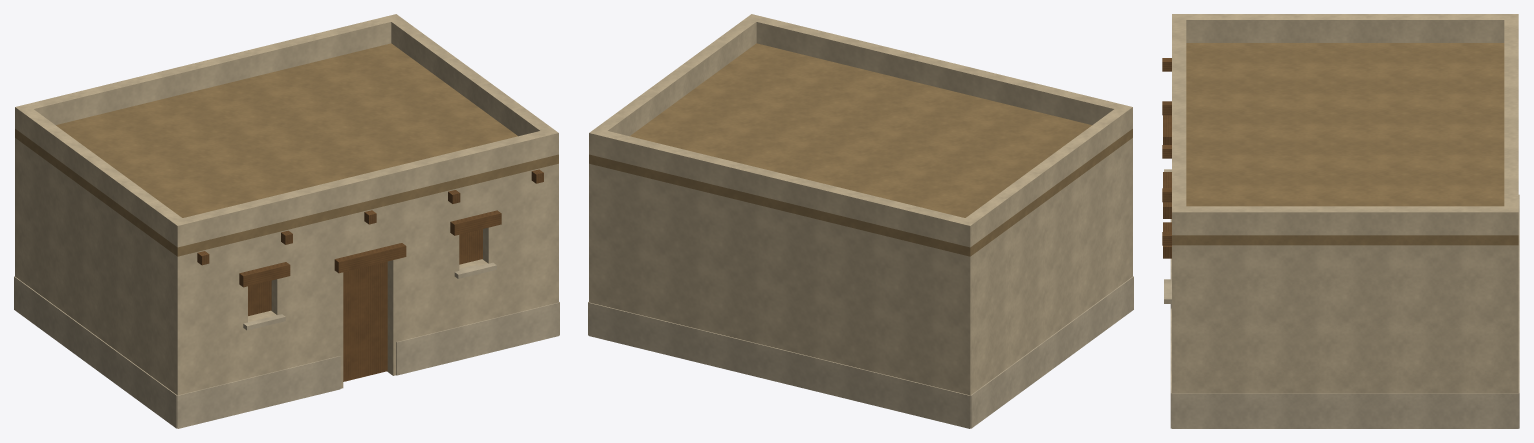
The picture shows the model from 3 angles, left to right: view 1: azimuth 30°, elevation 25°; view 2: azimuth 150°, elevation 25°; view 3: azimuth 270°, elevation 25°; orthographic projection. The views are drawn at different scales.
Visible parts, largest first — view 1: dwelling metres; view 2: dwelling metres; view 3: dwelling metres.
Boxes of the visible parts, x1,y1,x2,y2 form: dwelling metres: (14,14,559,428); dwelling metres: (588,14,1133,428); dwelling metres: (1162,14,1519,428).
Size of the model in its own units: 6.53 by 3.3 by 4.95.
Materials: 4 (4 with a texture image).
